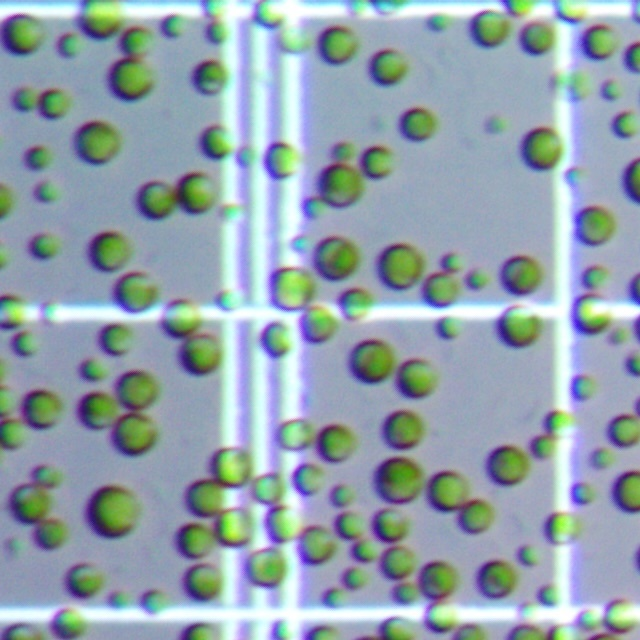cell: (82, 481, 145, 544), (369, 454, 429, 509), (307, 231, 365, 286), (373, 240, 429, 296), (345, 335, 400, 390), (69, 118, 126, 171), (108, 409, 162, 461), (481, 442, 536, 492), (110, 268, 163, 319), (266, 264, 320, 314), (314, 161, 366, 211), (84, 228, 137, 277), (17, 386, 69, 435), (496, 303, 546, 353), (393, 355, 444, 404), (111, 367, 162, 416), (378, 407, 430, 455), (471, 557, 523, 605), (518, 125, 567, 175), (0, 11, 49, 61), (570, 203, 621, 251), (497, 253, 547, 301), (414, 557, 464, 605), (296, 300, 346, 348), (72, 389, 124, 435), (313, 421, 362, 469), (179, 331, 226, 380), (10, 481, 57, 529), (244, 546, 292, 593), (109, 57, 158, 103), (293, 523, 340, 570), (159, 297, 207, 343), (427, 469, 475, 515), (260, 138, 306, 185), (177, 172, 221, 220), (368, 504, 416, 548), (316, 23, 361, 69), (571, 292, 616, 338), (515, 16, 560, 62), (365, 47, 413, 90), (135, 179, 179, 225), (173, 520, 220, 563), (212, 446, 257, 490), (64, 560, 110, 603), (188, 56, 232, 100), (395, 104, 441, 146), (79, 0, 127, 40), (357, 141, 400, 185), (187, 478, 231, 521), (183, 562, 226, 605), (334, 285, 378, 327), (214, 507, 256, 551), (541, 510, 588, 549), (471, 8, 513, 51), (456, 497, 499, 539), (275, 415, 319, 456), (97, 319, 139, 361), (582, 23, 622, 64), (24, 229, 68, 266), (545, 69, 589, 106), (47, 604, 92, 640), (601, 597, 640, 638), (608, 468, 640, 517), (286, 462, 327, 500), (32, 516, 73, 553), (119, 24, 158, 62), (200, 123, 237, 163), (18, 141, 59, 177), (27, 175, 69, 210), (277, 26, 320, 60), (36, 86, 75, 123), (259, 319, 296, 358), (604, 412, 640, 452), (0, 290, 31, 336), (51, 28, 89, 64), (578, 262, 617, 297), (265, 503, 298, 544), (422, 601, 462, 634), (379, 545, 420, 577), (335, 508, 371, 544), (566, 372, 602, 408), (7, 82, 42, 118), (249, 473, 284, 509), (137, 587, 176, 619), (620, 153, 640, 214), (0, 418, 32, 454), (437, 312, 467, 345), (0, 621, 52, 640), (611, 108, 640, 142), (479, 111, 513, 140), (542, 407, 575, 436), (382, 616, 421, 640), (386, 579, 419, 607), (501, 622, 552, 640), (256, 0, 288, 28), (0, 179, 19, 226), (554, 0, 591, 24), (530, 431, 560, 460), (159, 11, 187, 42), (38, 302, 70, 329), (547, 621, 592, 640), (328, 481, 357, 510), (0, 385, 23, 421), (100, 590, 133, 615), (448, 622, 493, 640), (27, 463, 66, 483), (287, 230, 315, 257), (180, 622, 221, 640), (502, 0, 543, 18), (620, 38, 639, 75), (424, 9, 453, 33), (4, 535, 28, 563), (622, 345, 640, 382), (13, 335, 40, 359), (205, 19, 229, 46), (371, 0, 408, 17), (570, 481, 595, 506), (305, 625, 345, 640), (609, 320, 629, 350), (320, 587, 347, 609), (339, 566, 366, 588), (536, 580, 563, 602), (302, 196, 329, 218), (600, 78, 621, 106), (352, 538, 377, 561), (441, 251, 464, 275), (240, 143, 259, 172), (563, 166, 588, 188), (463, 269, 490, 289), (221, 203, 242, 228), (200, 0, 230, 17), (577, 608, 600, 630), (516, 545, 539, 567), (274, 616, 295, 639), (0, 241, 13, 278), (216, 290, 241, 308), (591, 449, 615, 467), (347, 0, 367, 21), (517, 600, 533, 622), (627, 271, 639, 300), (634, 311, 639, 337), (635, 545, 639, 574)
